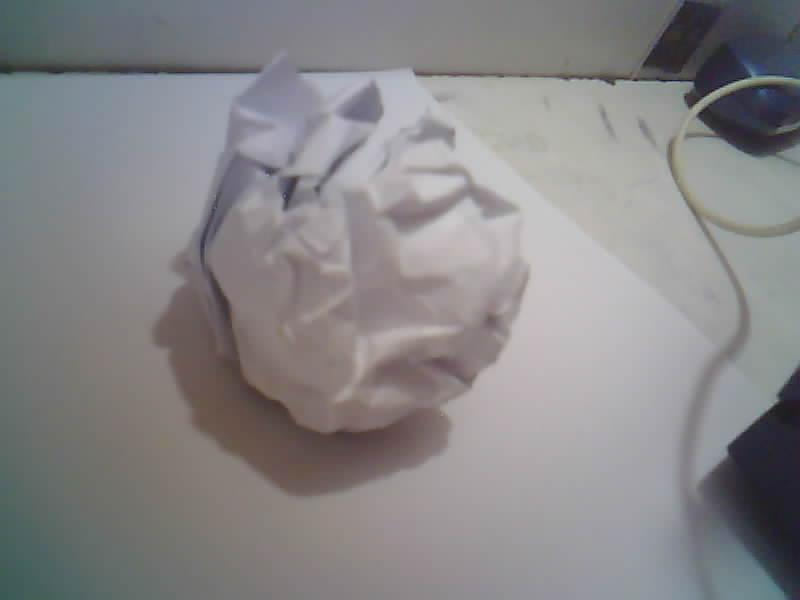biodegradable: (188, 56, 528, 432)
